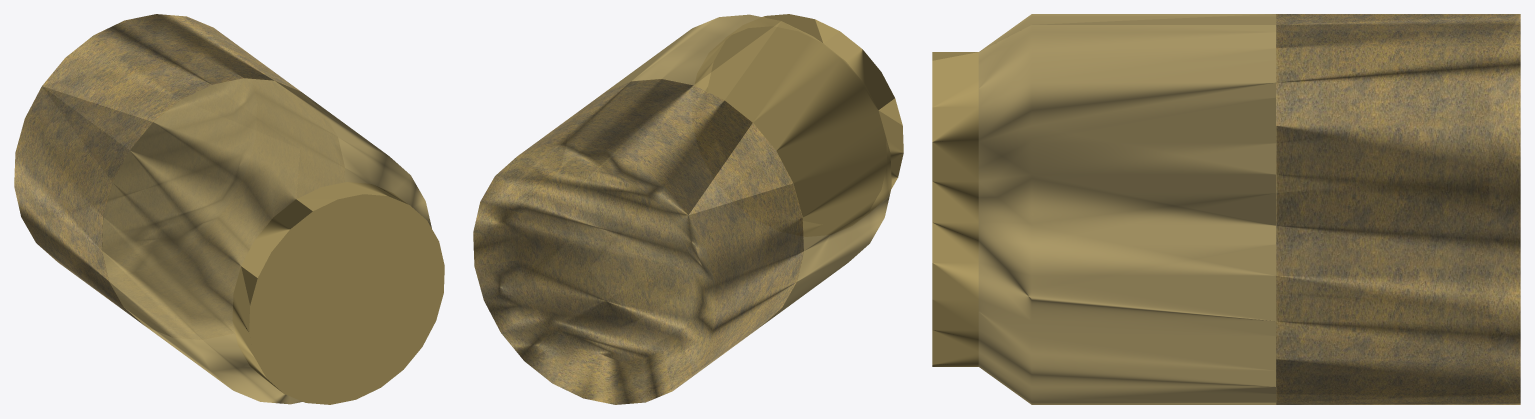
The model's file is model_align.obj.
3 renders of one model, left to right at view 1: azimuth 30°, elevation 25°; view 2: azimuth 150°, elevation 25°; view 3: azimuth 270°, elevation 25°, orthographic. The views are drawn at different scales.
Bounding box in the file's own units: 0.1352 × 0.1352 × 0.2035.
